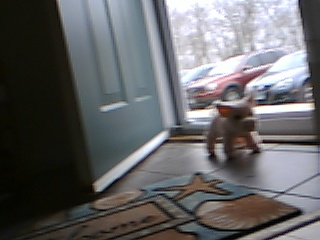piggy: (204, 89, 264, 161)
